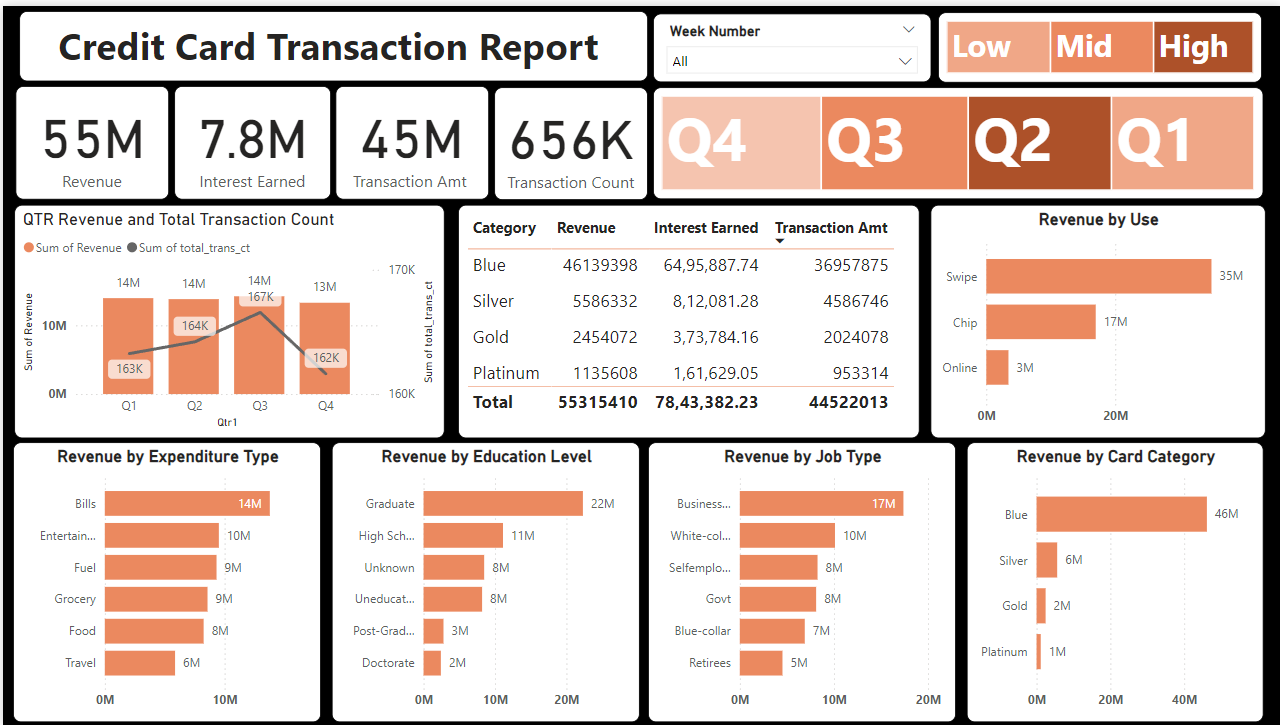

What the dashboard file says about the page in this screenshot:
{"tool":"powerbi","page":{"name":"Page 1","canvas":[1280,720],"ordinal":0},"visuals":[{"type":"textbox","box":[15.8,5.3,629.1,70],"z":0},{"type":"lineStackedColumnComboChart","title":"QTR Revenue and Total Transaction Count ","fields":{"Category":["public cc_detail.Qtr1"],"Y":["Sum(public cc_detail.Revenue)"],"Y2":["Sum(public cc_detail.total_trans_ct)"]},"box":[11.1,198.8,430,233.3],"z":1000},{"type":"barChart","title":"Revenue by Expenditure Type","fields":{"Category":["public cc_detail.exp_type"],"Y":["Sum(public cc_detail.Revenue)"]},"box":[10,436.8,308.3,280],"z":2000},{"type":"barChart","title":"Revenue by Education  Level","fields":{"Category":["public cust_detail.education_level"],"Y":["Sum(public cc_detail.Revenue)"]},"box":[328.3,436.8,308.3,280],"z":3000},{"type":"barChart","title":"Revenue by Job Type","fields":{"Category":["public cust_detail.customer_job"],"Y":["Sum(public cc_detail.Revenue)"]},"box":[645,436.8,308.3,280],"z":4000},{"type":"barChart","title":"Revenue by Card Category","fields":{"Category":["public cc_detail.card_category"],"Y":["Sum(public cc_detail.Revenue)"]},"box":[963.3,436.8,296.7,280],"z":5000},{"type":"barChart","title":"Revenue by Use","fields":{"Category":["public cc_detail.use_chip"],"Y":["Sum(public cc_detail.Revenue)"]},"box":[927.8,198.8,335,233.3],"z":6000},{"type":"tableEx","fields":{"Values":["public cc_detail.card_category","Sum(public cc_detail.Revenue)","Sum(public cc_detail.interest_earned)","Sum(public cc_detail.total_trans_amt)"]},"box":[454.5,198.8,461.7,233.3],"z":7000},{"type":"card","fields":{"Values":["Sum(public cc_detail.Revenue)"]},"box":[12.8,80.4,153.3,113.3],"z":8000},{"type":"card","fields":{"Values":["Sum(public cc_detail.interest_earned)"]},"box":[171.1,80.4,156.7,113.3],"z":9000},{"type":"card","fields":{"Values":["Sum(public cc_detail.total_trans_amt)"]},"box":[332.8,80.4,153.3,113.3],"z":10000},{"type":"card","fields":{"Values":["Sum(public cc_detail.total_trans_ct)"]},"box":[491.3,80.7,153.6,112.7],"z":11000},{"type":"slicer","fields":{"Values":["public cc_detail.week_num"]},"box":[649.5,7.1,278.6,68.6],"z":12000},{"type":"treemap","fields":{"Group":["public cc_detail.Qtr1"],"Values":["Avg(public cc_detail.client_num)"]},"box":[649.5,81.1,610,112],"z":13000},{"type":"treemap","fields":{"Values":["CountNonNull(public cc_detail.client_num)"],"Group":["public cust_detail.Customer_incomebracket"]},"box":[935.2,5.7,324.3,70],"z":14000}]}

Visuals, with their boxes in screenshot pixels (x1, y1, x2, y2), scaled from the page's 1280x720 canvas onto the 1280x725 screenshot:
textbox: {"x1": 16, "y1": 5, "x2": 645, "y2": 76}
"QTR Revenue and Total Transaction Count " lineStackedColumnComboChart: {"x1": 11, "y1": 200, "x2": 441, "y2": 435}
"Revenue by Expenditure Type" barChart: {"x1": 10, "y1": 440, "x2": 318, "y2": 722}
"Revenue by Education  Level" barChart: {"x1": 328, "y1": 440, "x2": 637, "y2": 722}
"Revenue by Job Type" barChart: {"x1": 645, "y1": 440, "x2": 953, "y2": 722}
"Revenue by Card Category" barChart: {"x1": 963, "y1": 440, "x2": 1260, "y2": 722}
"Revenue by Use" barChart: {"x1": 928, "y1": 200, "x2": 1263, "y2": 435}
tableEx - public cc_detail.card_category x Sum(public cc_detail.Revenue): {"x1": 454, "y1": 200, "x2": 916, "y2": 435}
card - Sum(public cc_detail.Revenue): {"x1": 13, "y1": 81, "x2": 166, "y2": 195}
card - Sum(public cc_detail.interest_earned): {"x1": 171, "y1": 81, "x2": 328, "y2": 195}
card - Sum(public cc_detail.total_trans_amt): {"x1": 333, "y1": 81, "x2": 486, "y2": 195}
card - Sum(public cc_detail.total_trans_ct): {"x1": 491, "y1": 81, "x2": 645, "y2": 195}
slicer - public cc_detail.week_num: {"x1": 650, "y1": 7, "x2": 928, "y2": 76}
treemap - public cc_detail.Qtr1 x Avg(public cc_detail.client_num): {"x1": 650, "y1": 82, "x2": 1260, "y2": 194}
treemap - CountNonNull(public cc_detail.client_num) x public cust_detail.Customer_incomebracket: {"x1": 935, "y1": 6, "x2": 1260, "y2": 76}
